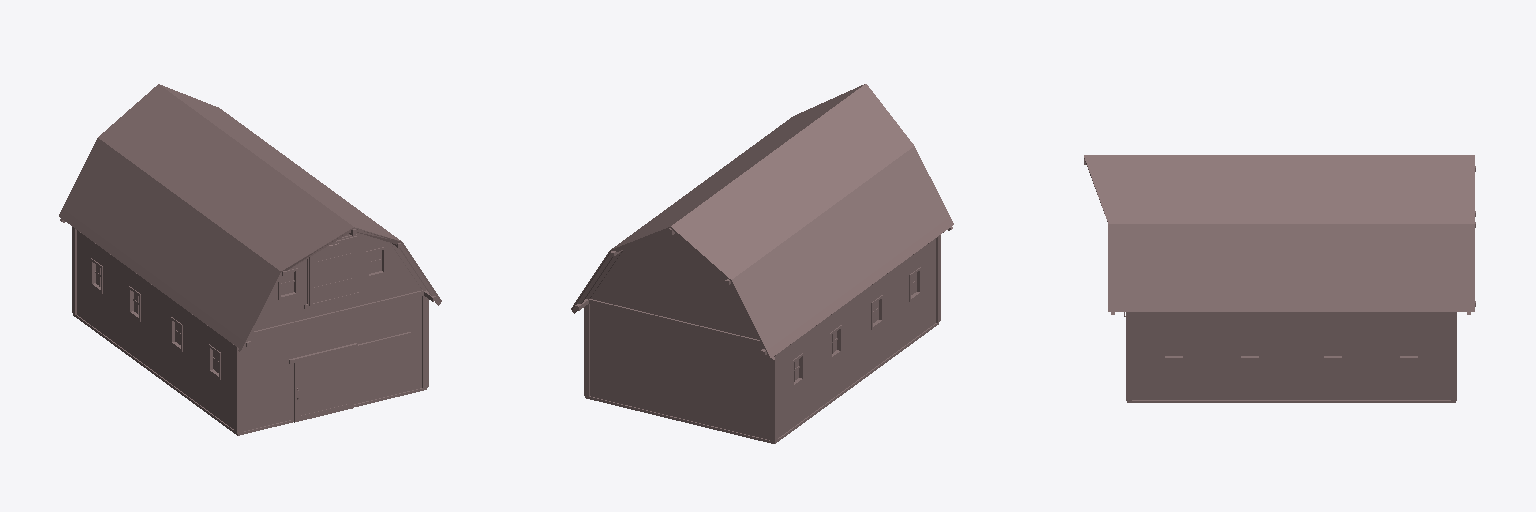
File: barn.obj
3 renders of one model, left to right at view 1: azimuth 30°, elevation 25°; view 2: azimuth 150°, elevation 25°; view 3: azimuth 270°, elevation 25°, orthographic.
Parts seen in each view (by area): view 1: RedBarn15; view 2: RedBarn15; view 3: RedBarn15.
Part boxes in pixels (bbox=[...]): RedBarn15: bbox=[59, 84, 441, 435]; RedBarn15: bbox=[571, 84, 953, 443]; RedBarn15: bbox=[1084, 155, 1475, 402].
Bounding box in the file's own units: 13.59 × 12.98 × 22.93.